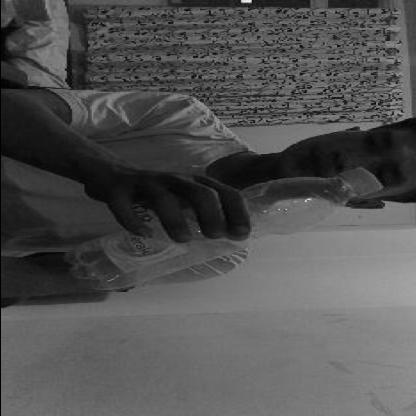plastic_bottles: (68, 161, 382, 291)
